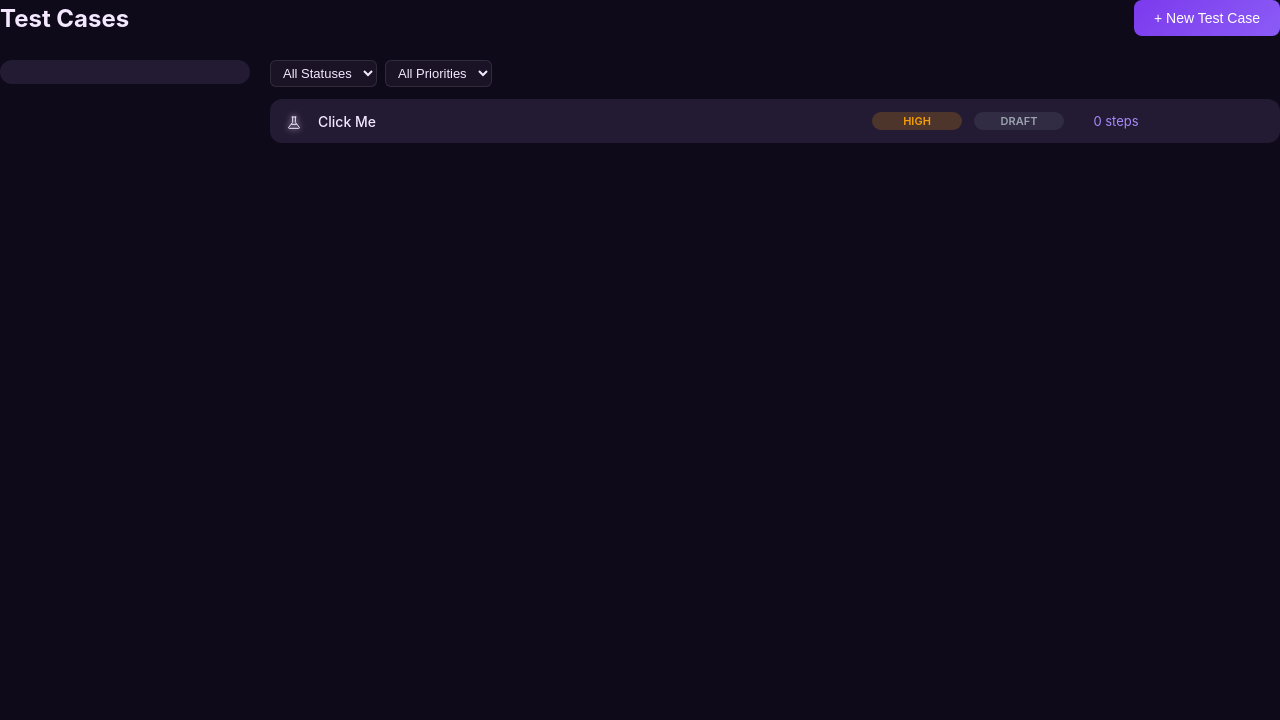
Test: EL014: Deep Link Navigation + TestCases Visual Parity › testcase_viewer_opens › клик на строку открывает fullscreen viewer
Click the element with class "tc-row" at (347, 121), box x1=286 y1=112 x2=1139 y2=131
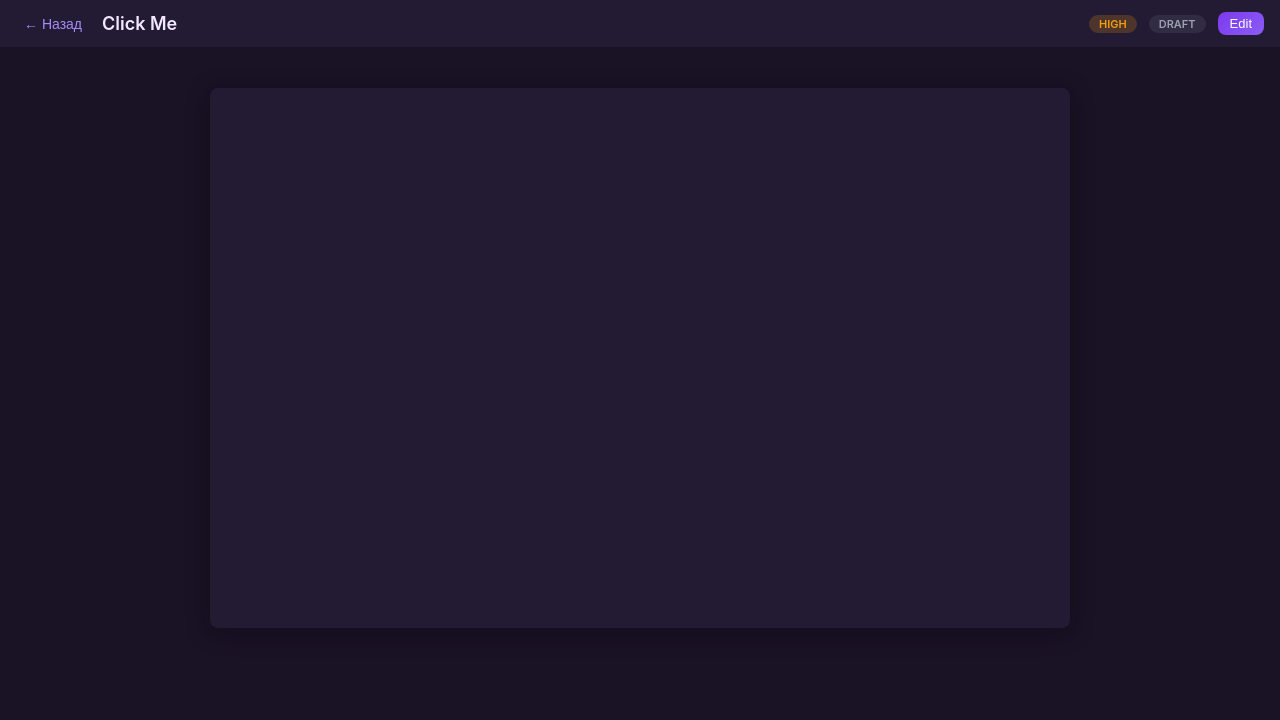
Now the element showing "← Назад Click Me High Draft Edit" is shown
